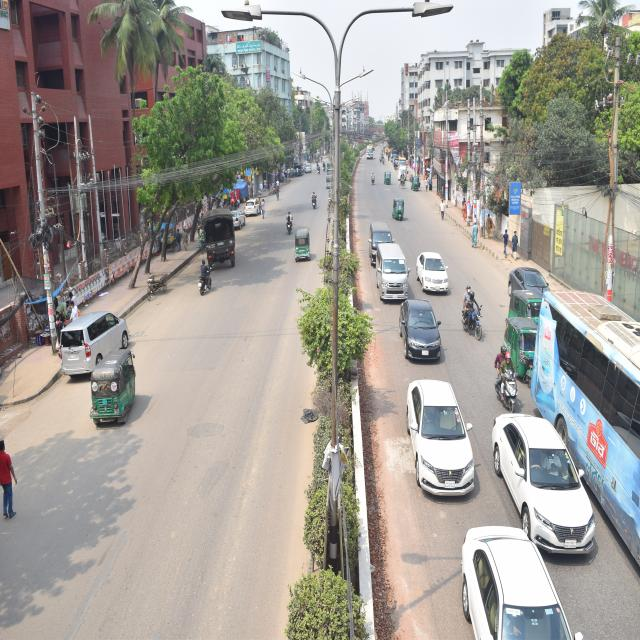bus: (528, 284, 640, 451)
car: (490, 409, 600, 558), (459, 523, 585, 640), (406, 378, 479, 499), (58, 310, 134, 374), (416, 250, 452, 296), (246, 197, 263, 223), (232, 207, 246, 230)
microbus: (376, 243, 412, 304), (368, 211, 396, 258)
motorbike: (399, 296, 446, 366), (492, 367, 524, 413), (460, 303, 489, 341), (198, 271, 213, 298), (281, 210, 295, 236), (309, 190, 319, 208)
